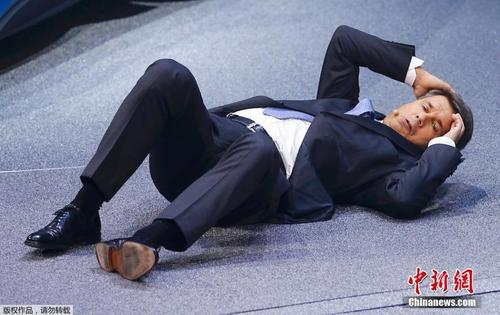fall: (21, 16, 478, 297)
